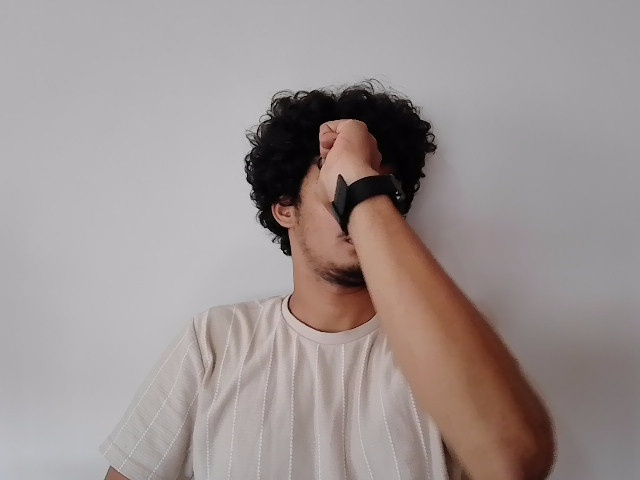drink: (270, 123, 436, 283)
